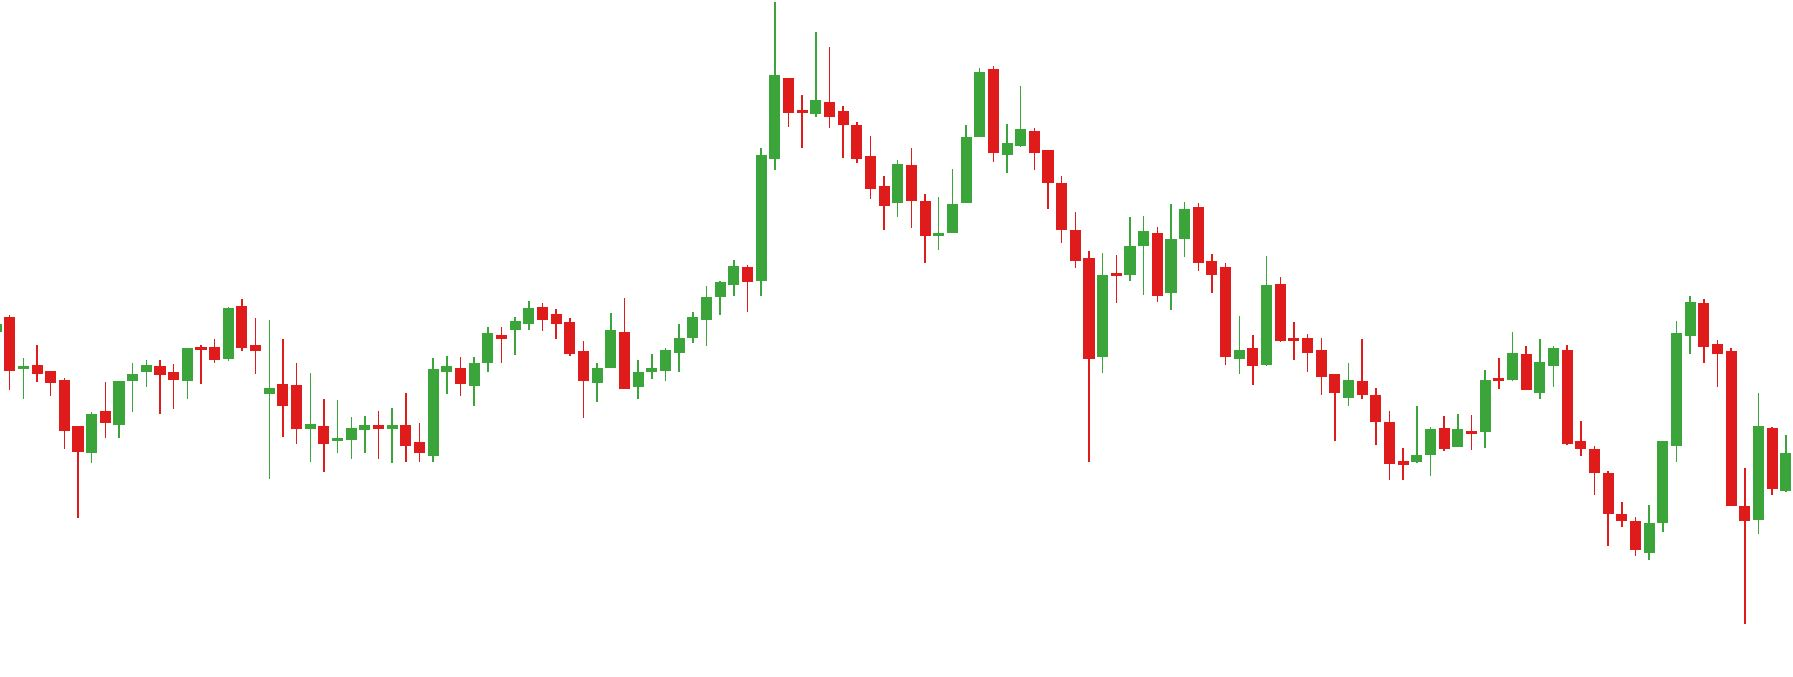buy: (467, 332, 601, 424)
sell: (1504, 298, 1711, 405)
